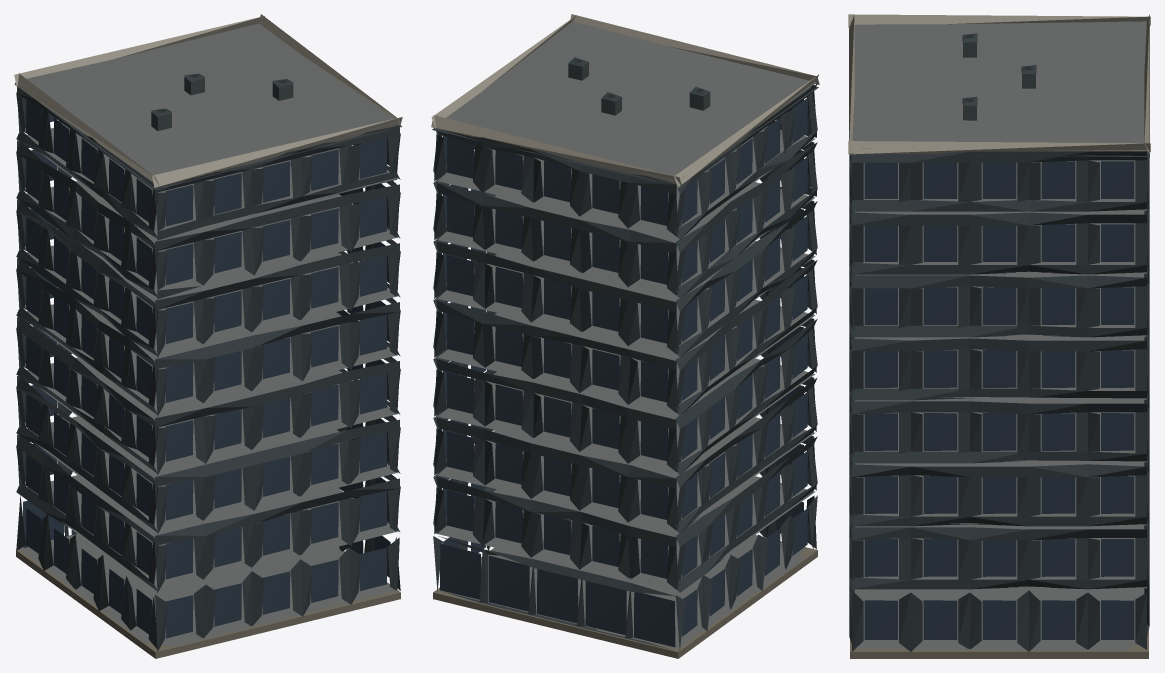
Rendered from office_tower.glb.
3 views of the same model, side by side, from view 1: azimuth 30°, elevation 25°; view 2: azimuth 150°, elevation 25°; view 3: azimuth 270°, elevation 25° (orthographic). The views are drawn at different scales.
Size of the model in its own units: 7.36 by 13.94 by 7.26.
